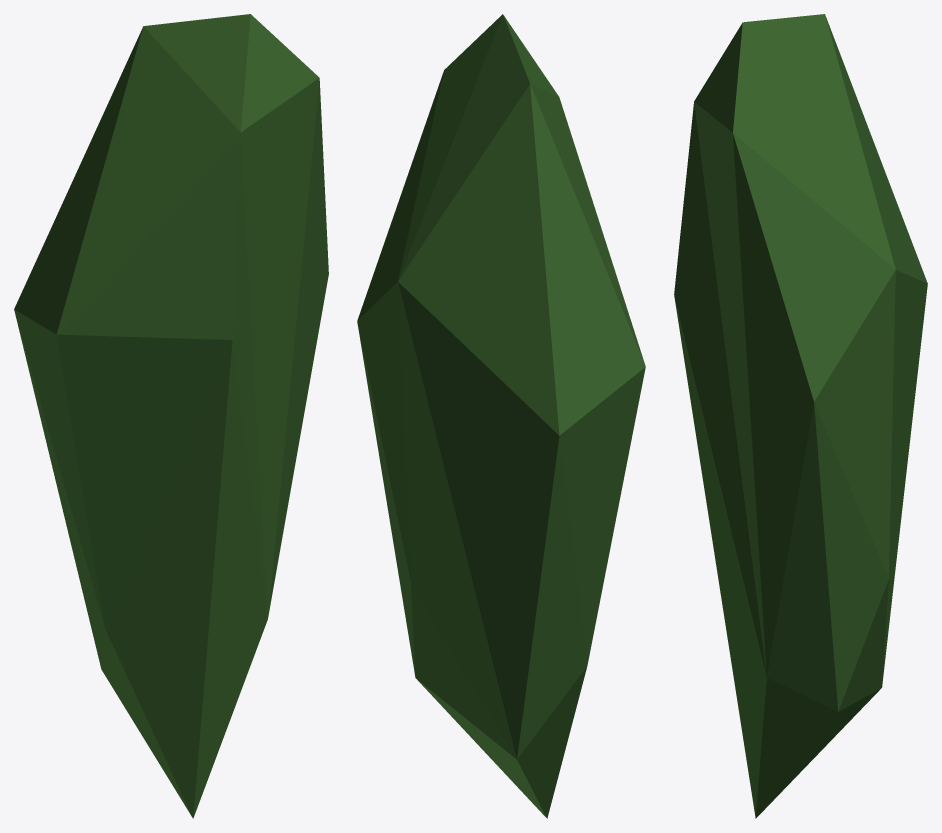
File: SM_Prop_Gem_02.glb
3 renders of one model, left to right at view 1: azimuth 30°, elevation 25°; view 2: azimuth 150°, elevation 25°; view 3: azimuth 270°, elevation 25°, orthographic. The views are drawn at different scales.
Parts seen in each view (by area): view 1: SM_Prop_Gem_02; view 2: SM_Prop_Gem_02; view 3: SM_Prop_Gem_02.
Boxes of the visible parts, bbox=[...] form: SM_Prop_Gem_02: bbox=[14, 14, 328, 818]; SM_Prop_Gem_02: bbox=[357, 14, 645, 818]; SM_Prop_Gem_02: bbox=[674, 14, 927, 818].
Bounding box in the file's own units: 0.00227 × 0.00613 × 0.00171.
1 material, 1 textured.
